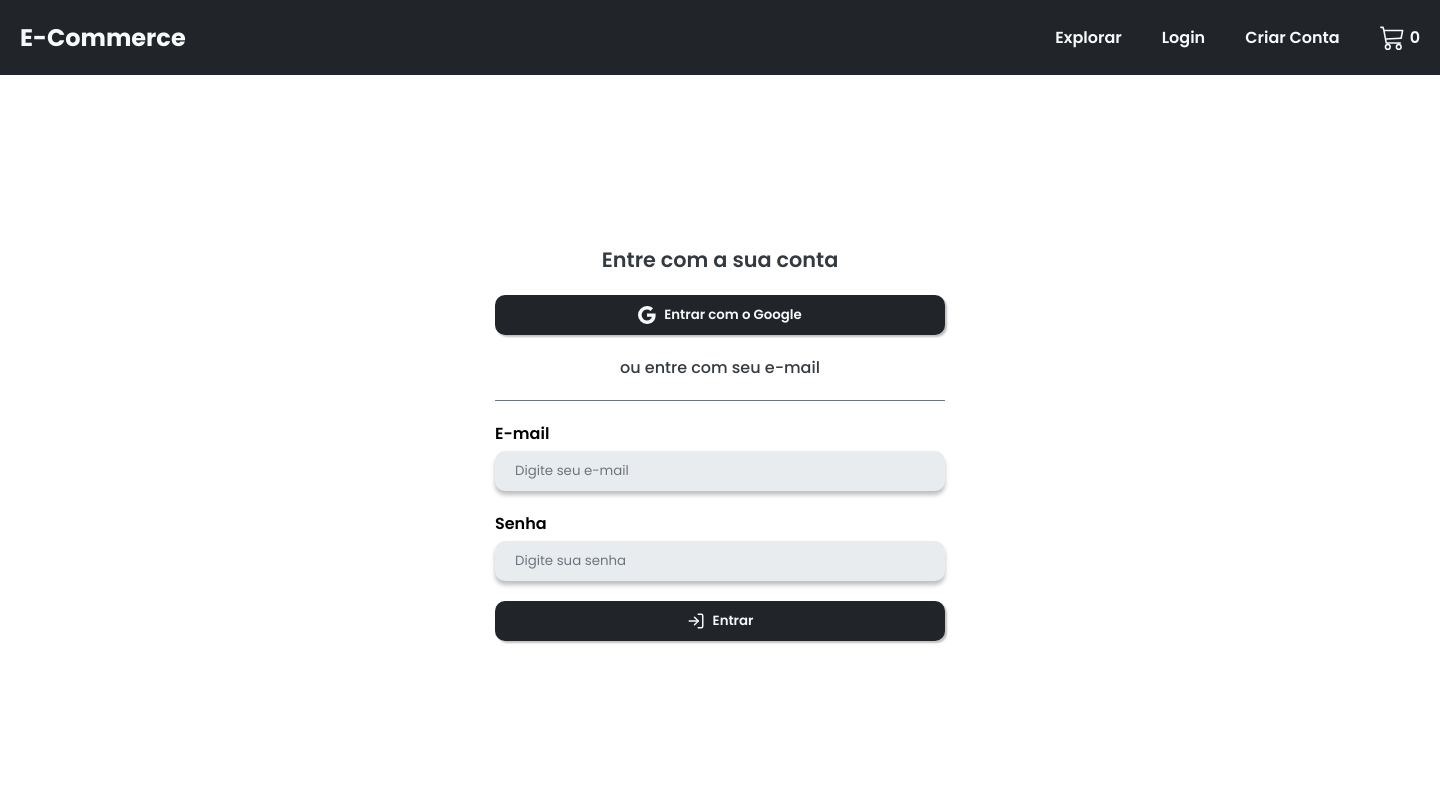
it: Login › should show erros when trying to submit without filling all required fields
Click the button "Entrar" at coordinates (720, 621), box [495,601,945,641]
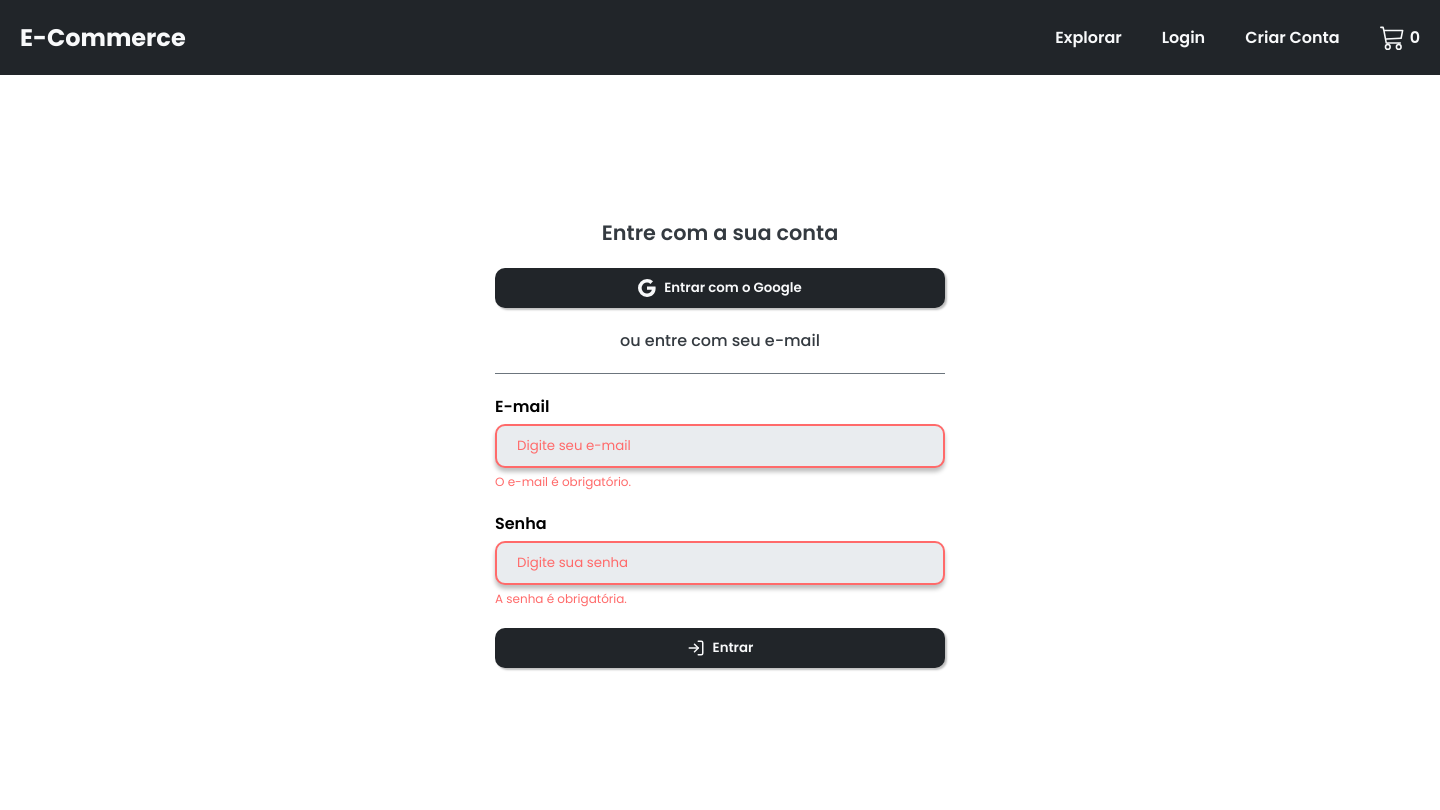
expect the text "O e-mail é obrigatório." is shown: met, box [495,473,631,490]
expect the text "A senha é obrigatória." is shown: met, box [495,590,627,607]
